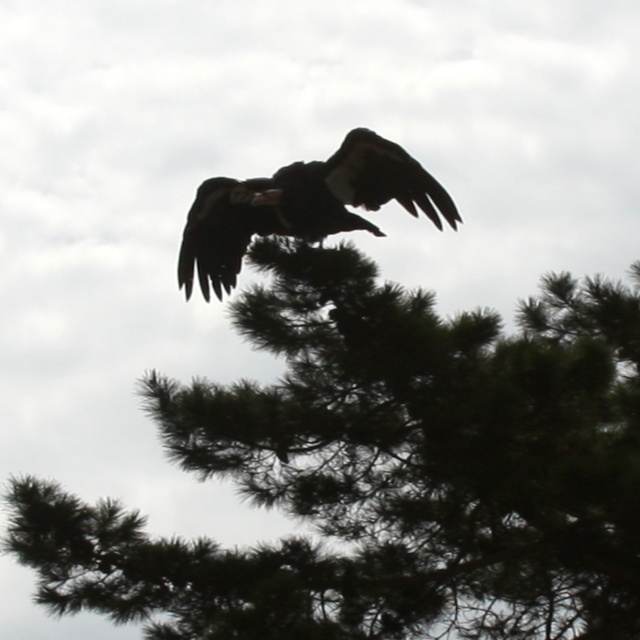Eagle: (170, 125, 465, 303)
